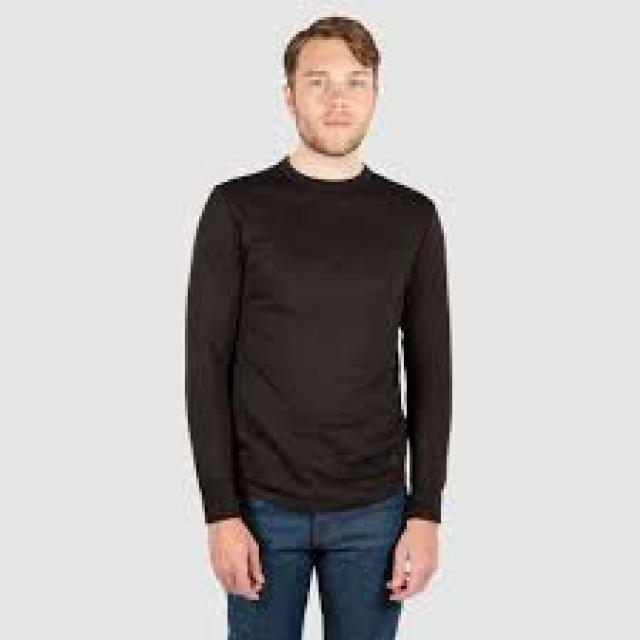plain: (185, 148, 449, 521)
